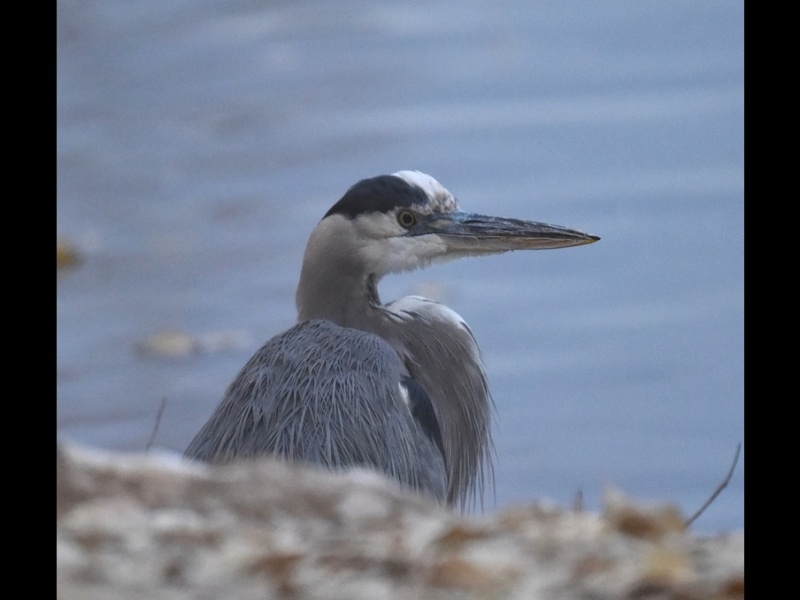heron: (176, 162, 604, 495)
